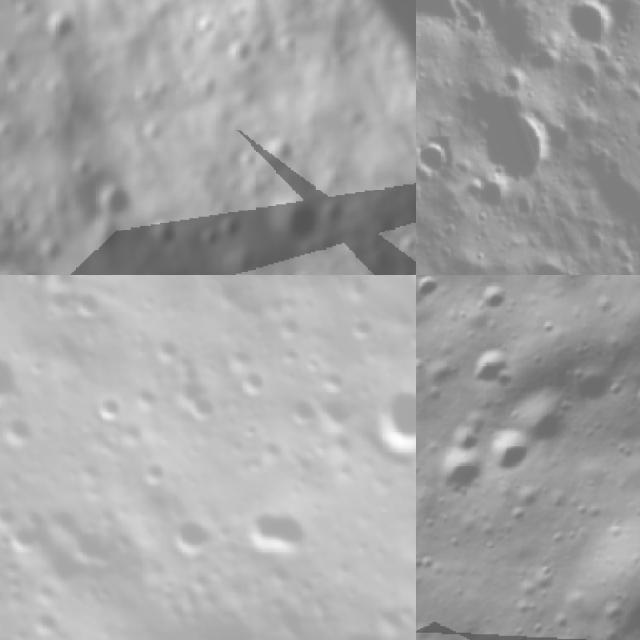crater: (470, 96, 571, 199), (512, 382, 590, 460), (358, 383, 416, 475), (460, 334, 531, 407), (243, 504, 311, 576), (422, 439, 492, 508), (472, 418, 539, 486), (558, 0, 630, 61), (563, 353, 627, 419), (416, 0, 488, 50), (0, 329, 31, 438), (257, 196, 323, 244), (468, 169, 518, 226), (416, 130, 460, 190), (165, 516, 211, 563), (522, 246, 579, 275), (334, 619, 405, 640), (147, 216, 179, 253), (105, 184, 132, 222), (48, 8, 72, 50), (624, 372, 640, 429), (197, 74, 219, 110), (68, 153, 95, 182), (128, 82, 152, 114), (194, 227, 226, 250), (232, 150, 260, 176), (268, 134, 294, 160), (0, 44, 20, 75), (11, 214, 31, 242), (394, 229, 416, 254), (33, 124, 55, 148), (326, 50, 350, 70), (46, 236, 68, 257), (195, 11, 216, 33), (222, 217, 241, 240), (17, 0, 34, 24), (174, 30, 194, 48), (230, 1, 247, 22), (179, 66, 198, 83), (0, 122, 18, 139), (154, 82, 171, 98), (172, 85, 192, 98)
